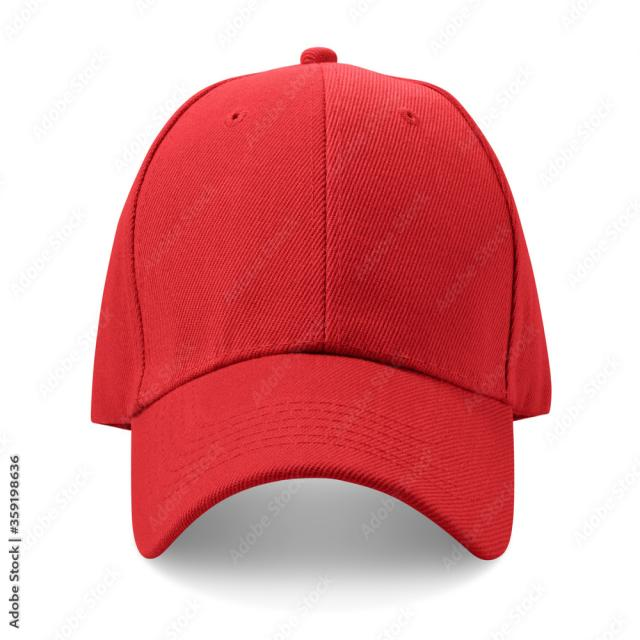Nonhelmet: (88, 45, 554, 565)
